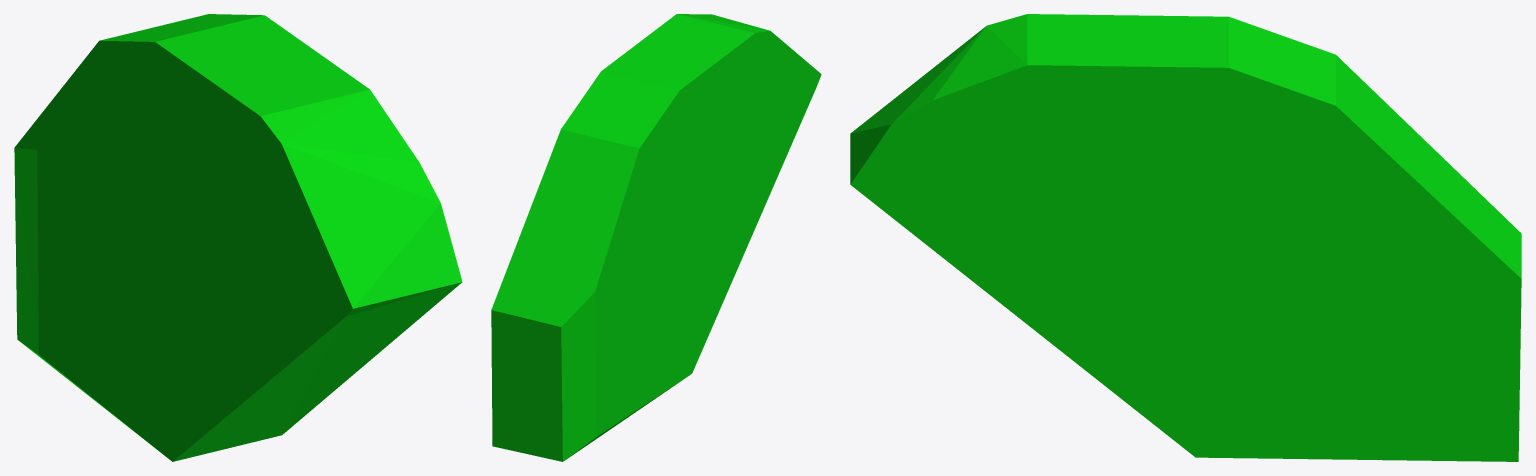
File: model7_convex_piece_000.obj
3 views of the same model, side by side, from view 1: azimuth 30°, elevation 25°; view 2: azimuth 150°, elevation 25°; view 3: azimuth 270°, elevation 25° (orthographic). The views are drawn at different scales.
Size of the model in its own units: 0.00539 by 0.0195 by 0.0299.
